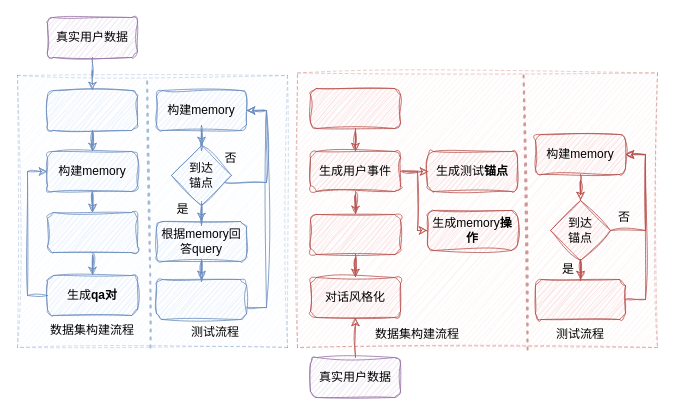
This 675x415 diagram has some shape labels left out. Here are the shapes that lost their labels. From the top down, the centre of each, then its label:
the point at 92,110: 去敏数据
the point at 355,108: 生成用户画像
the point at 92,232: 人工识别 锚点
the point at 355,234: 生成对话
the point at 201,299: 评估answer
the point at 580,299: 评估当前锚点前的memory操作
